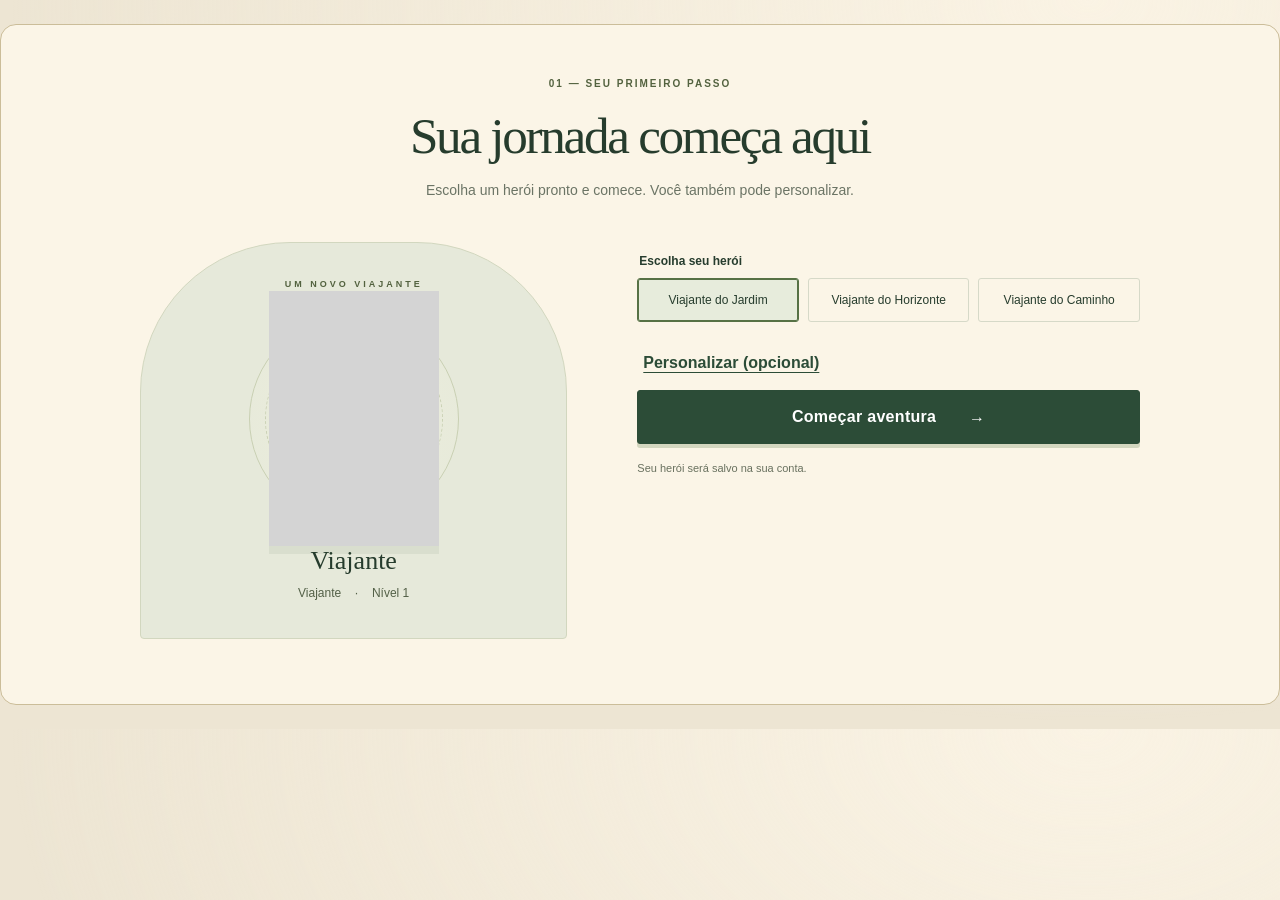
CreateScreen auth guard › keeps the hero form open if the online save fails
The width and height of the screenshot is (1280, 900).
Click the button "Começar aventura →": [889, 417] box [637, 390, 1140, 444]
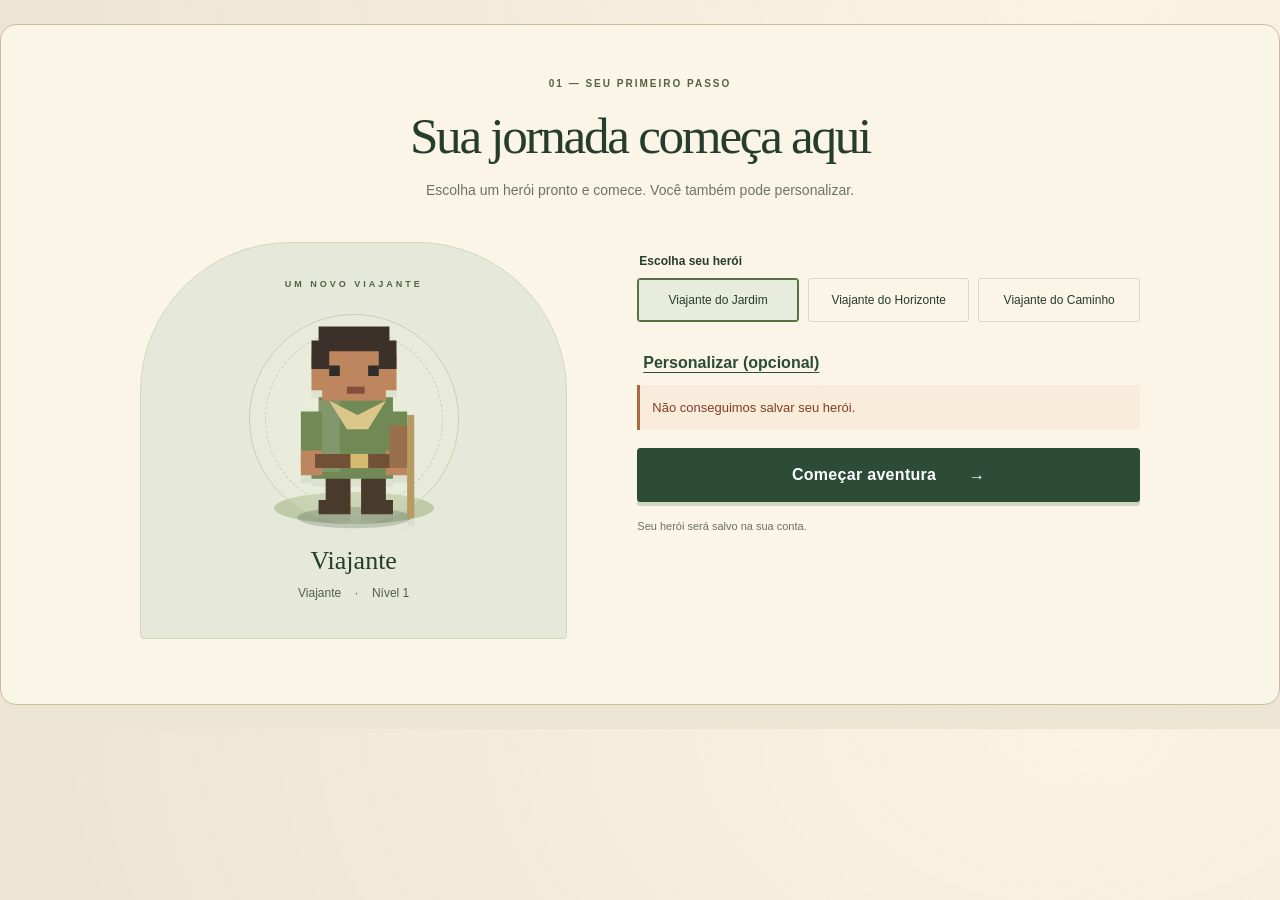
Check: the message shows "Não conseguimos salvar", box [652, 400, 855, 415]
